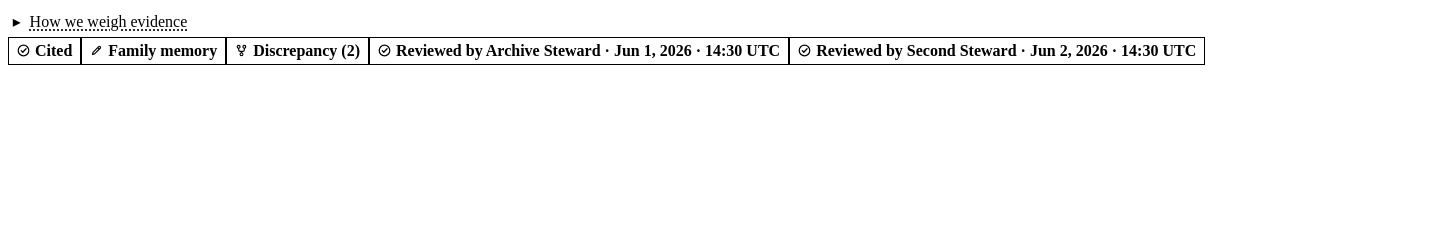
Issue #69 stewardship flows: EvidenceLegend, uncited CTA, completeness, Field Reports, and Steward Review Stamps › renders EvidenceLegend, EpistemicTierBadge, and StewardReviewBadge cleanly
Click the button "▸ How we weigh evidence". click: (99, 22)
box: x1=8 y1=8 x2=189 y2=37
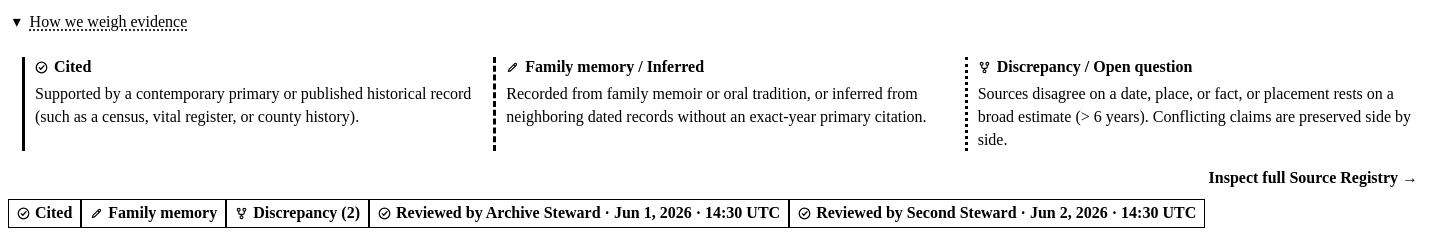
Now the button "▾ How we weigh evidence" is expanded, box x1=8 y1=8 x2=189 y2=37
Now the text "Family memory / Inferred" is shown, box x1=525 y1=57 x2=704 y2=78
Now the text "Discrepancy / Open question" is shown, box x1=997 y1=57 x2=1192 y2=78
